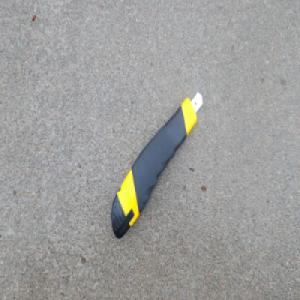Cutter: (110, 89, 204, 239)
